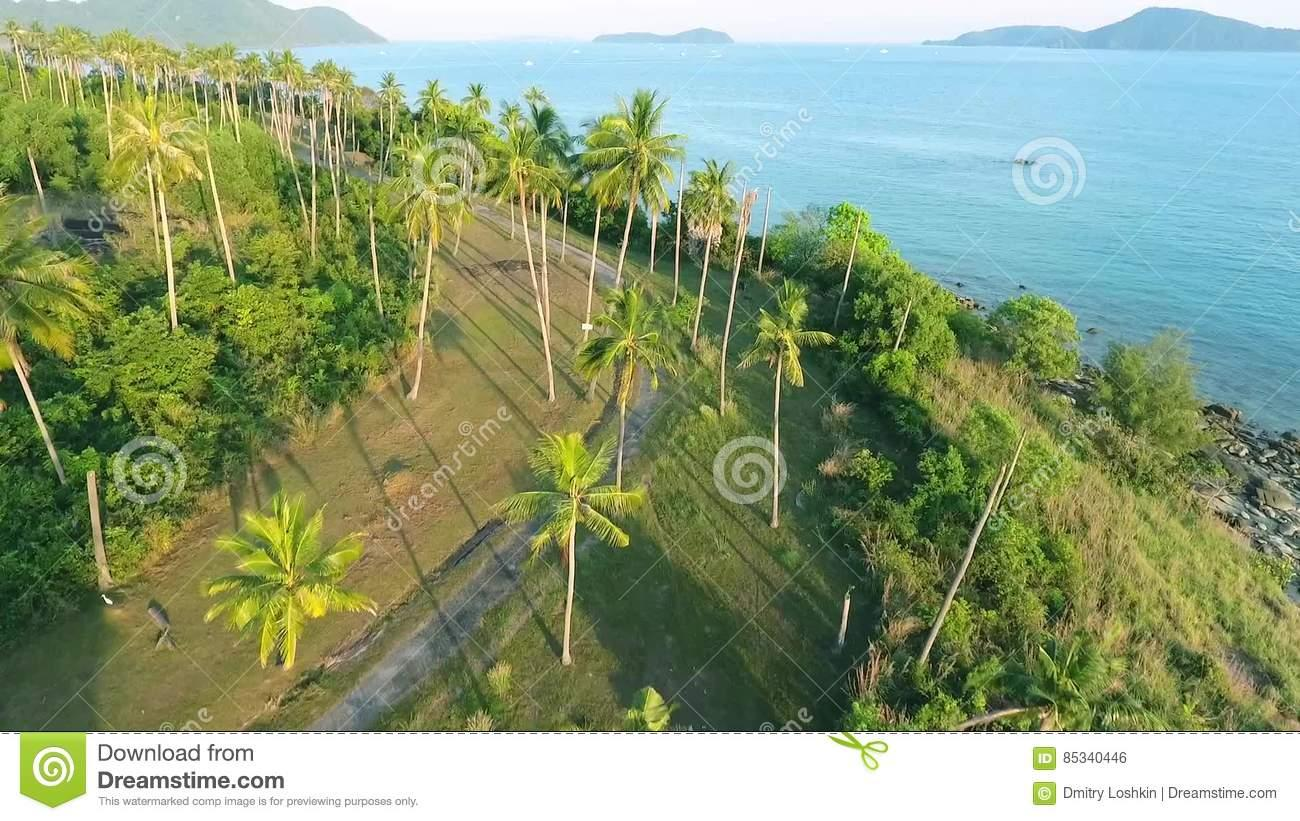coconut_tree: (227, 499, 383, 678), (511, 417, 652, 576), (580, 90, 683, 224), (575, 293, 687, 411), (728, 288, 837, 405), (91, 107, 217, 201), (400, 151, 483, 263)
